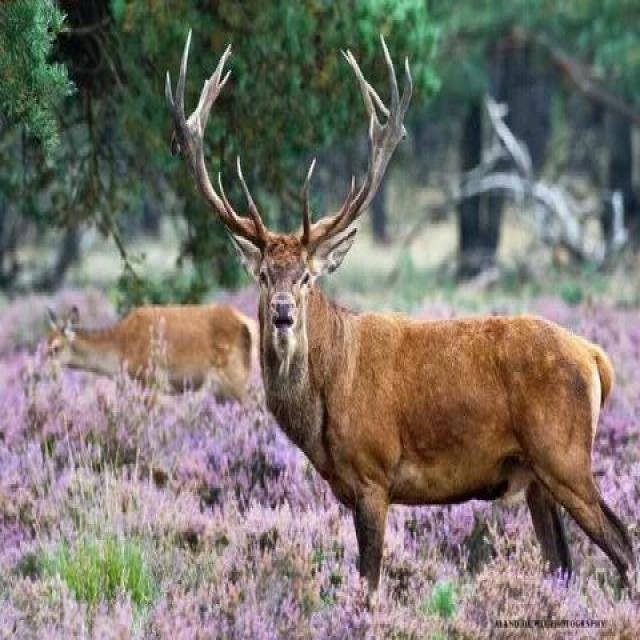deer: (158, 13, 640, 615)
